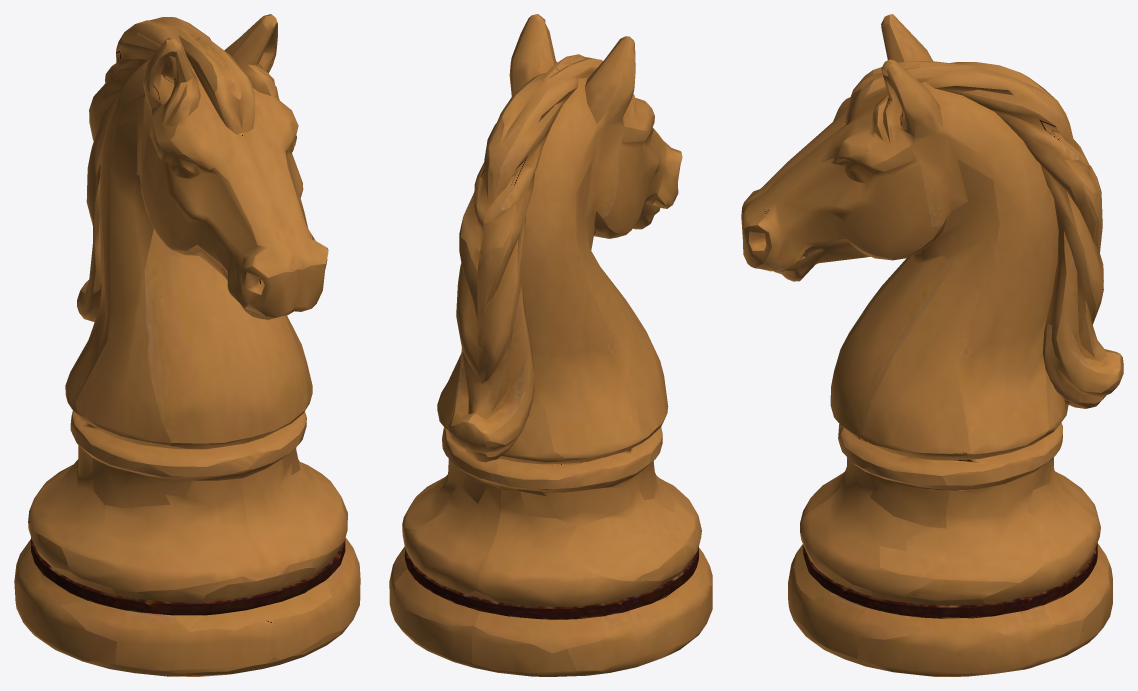
File: white-knight.glb
3 renders of one model, left to right at view 1: azimuth 30°, elevation 25°; view 2: azimuth 150°, elevation 25°; view 3: azimuth 270°, elevation 25°, orthographic. The views are drawn at different scales.
Visible parts, largest first — view 1: world; view 2: world; view 3: world.
Boxes of the visible parts, box(x1,y1,x2,y2) form: world: box(14, 14, 360, 676); world: box(389, 14, 712, 676); world: box(741, 14, 1123, 676).
Size of the model in its own units: 0.521 by 1 by 0.6057.
Materials: 1 (1 with a texture image).
